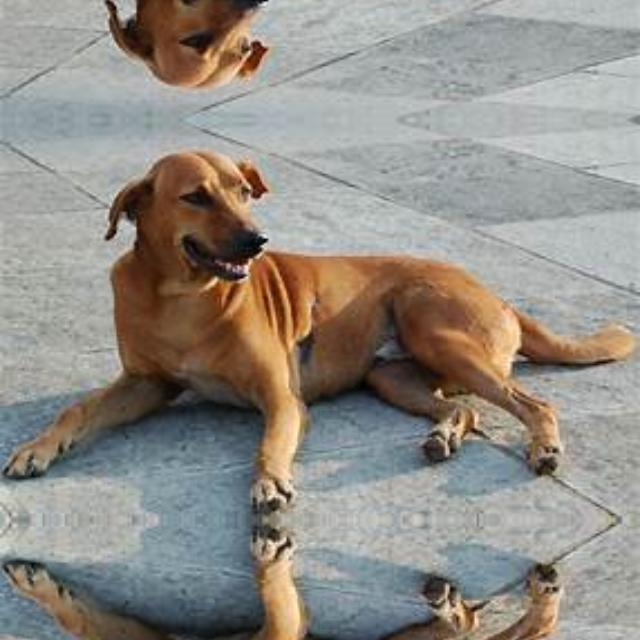dog: (56, 138, 616, 520), (56, 519, 616, 640), (56, 0, 616, 99)
